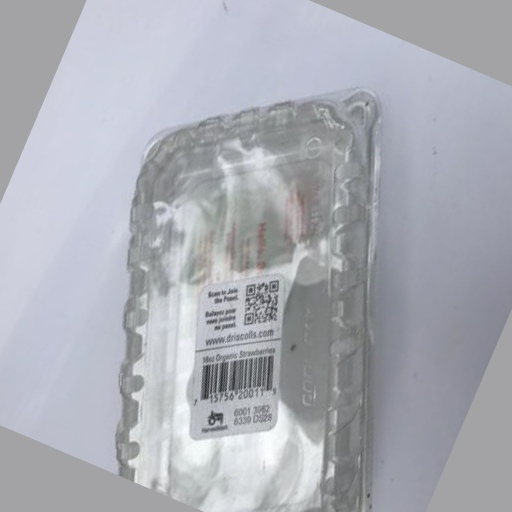Plastic_4: (114, 88, 382, 512)
